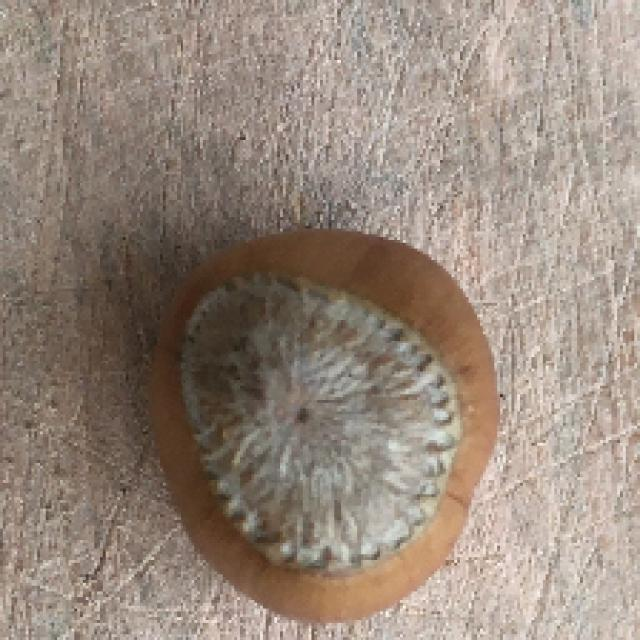DamagedHazelnut: (144, 227, 503, 624)
